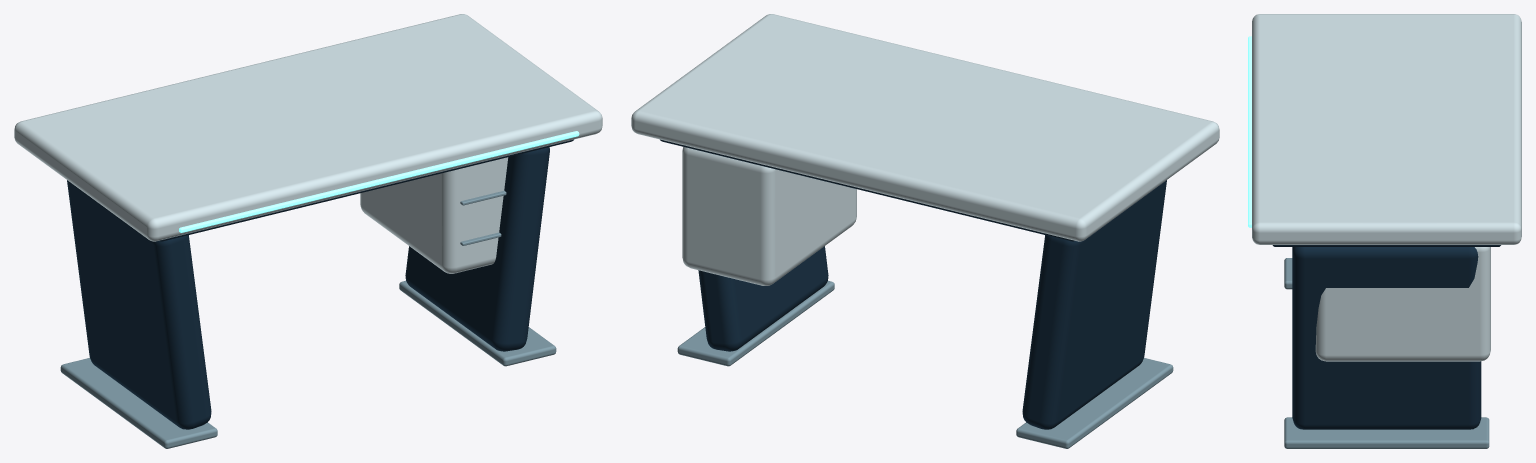
Rendered from desk.glb.
3 renders of one model, left to right at view 1: azimuth 30°, elevation 25°; view 2: azimuth 150°, elevation 25°; view 3: azimuth 270°, elevation 25°, orthographic. The views are drawn at different scales.
Parts seen in each view (by area): view 1: atelier-cyber-desk; view 2: atelier-cyber-desk; view 3: atelier-cyber-desk.
Boxes of the visible parts, x1,y1,x2,y2 form: atelier-cyber-desk: (14,14,602,448); atelier-cyber-desk: (631,14,1219,448); atelier-cyber-desk: (1248,14,1521,448).
Size of the model in its own units: 1.92 by 1 by 1.04.
